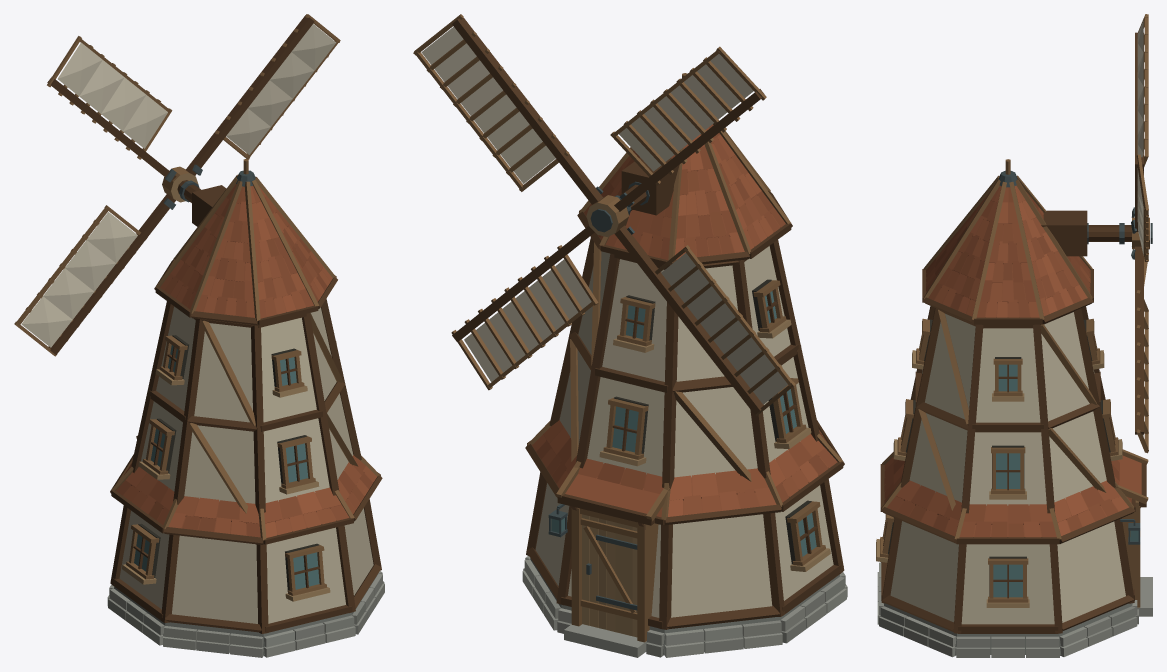
File: WindMill.glb
The picture shows the model from 3 angles, left to right: view 1: azimuth 30°, elevation 25°; view 2: azimuth 150°, elevation 25°; view 3: azimuth 270°, elevation 25°; orthographic projection. The views are drawn at different scales.
Parts seen in each view (by area): view 1: WindMill, WindMillSails, WindMillCap, WindMillGlass; view 2: WindMill, WindMillSails, WindMillCap, WindMillDoor, WindMillGlass; view 3: WindMill, WindMillCap, WindMillSails, WindMillGlass.
Boxes of the visible parts, box(x1,y1,x2,y2) form: WindMill: box(107, 298, 384, 657); WindMillSails: box(14, 14, 340, 356); WindMillCap: box(154, 159, 337, 325); WindMillGlass: box(134, 345, 319, 589); WindMill: box(522, 237, 847, 657); WindMillSails: box(413, 14, 795, 416); WindMillCap: box(577, 73, 792, 267); WindMillDoor: box(580, 514, 637, 637); WindMillGlass: box(551, 291, 816, 556); WindMill: box(876, 306, 1152, 657); WindMillCap: box(922, 159, 1131, 324); WindMillSails: box(1131, 14, 1152, 453); WindMillGlass: box(993, 364, 1138, 597).
Bounding box in the file's own units: 7.55 × 11.9 × 5.53.
